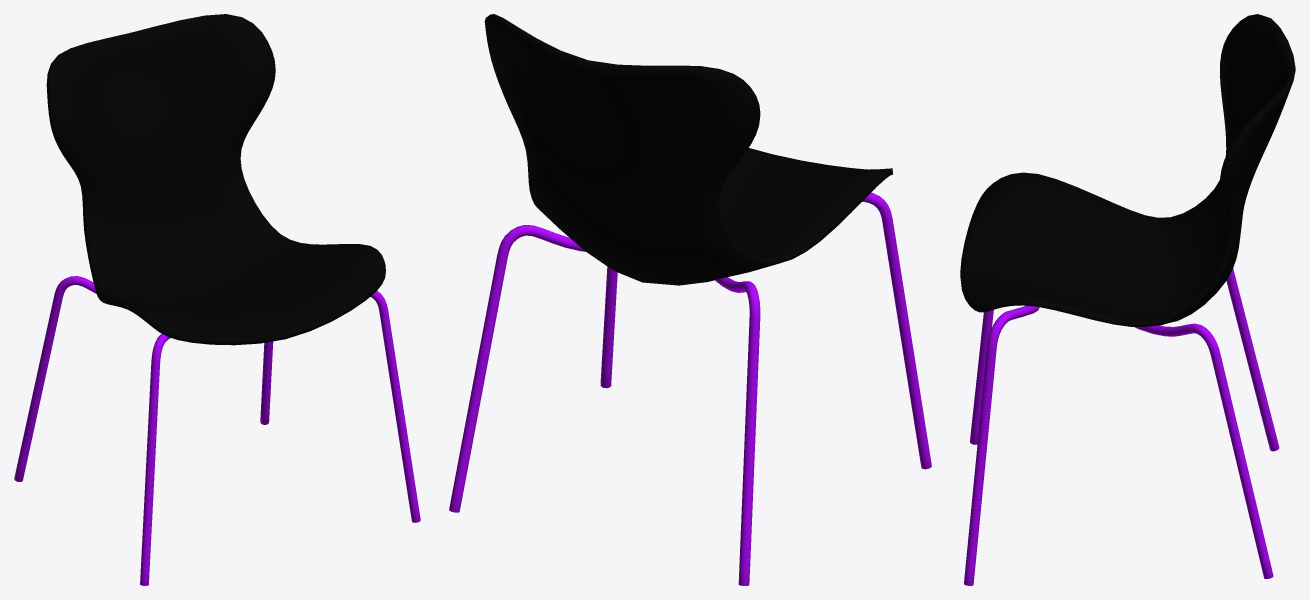
File: CHAIR_LOW.fbx
3 views of the same model, side by side, from view 1: azimuth 30°, elevation 25°; view 2: azimuth 150°, elevation 25°; view 3: azimuth 270°, elevation 25° (orthographic). The views are drawn at different scales.
Parts seen in each view (by area): view 1: CHAIR_LOW; view 2: CHAIR_LOW; view 3: CHAIR_LOW.
Boxes of the visible parts, x1,y1,x2,y2 form: CHAIR_LOW: (14,14,420,585); CHAIR_LOW: (449,14,931,585); CHAIR_LOW: (960,14,1295,585).
Bounding box in the file's own units: 56.11 × 81.24 × 54.47.
